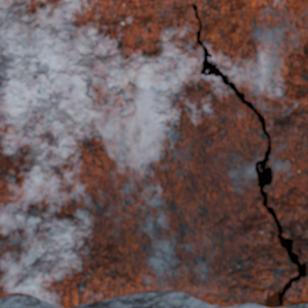brick: (0, 0, 307, 307), (283, 269, 307, 305)
crack: (190, 2, 307, 305)
